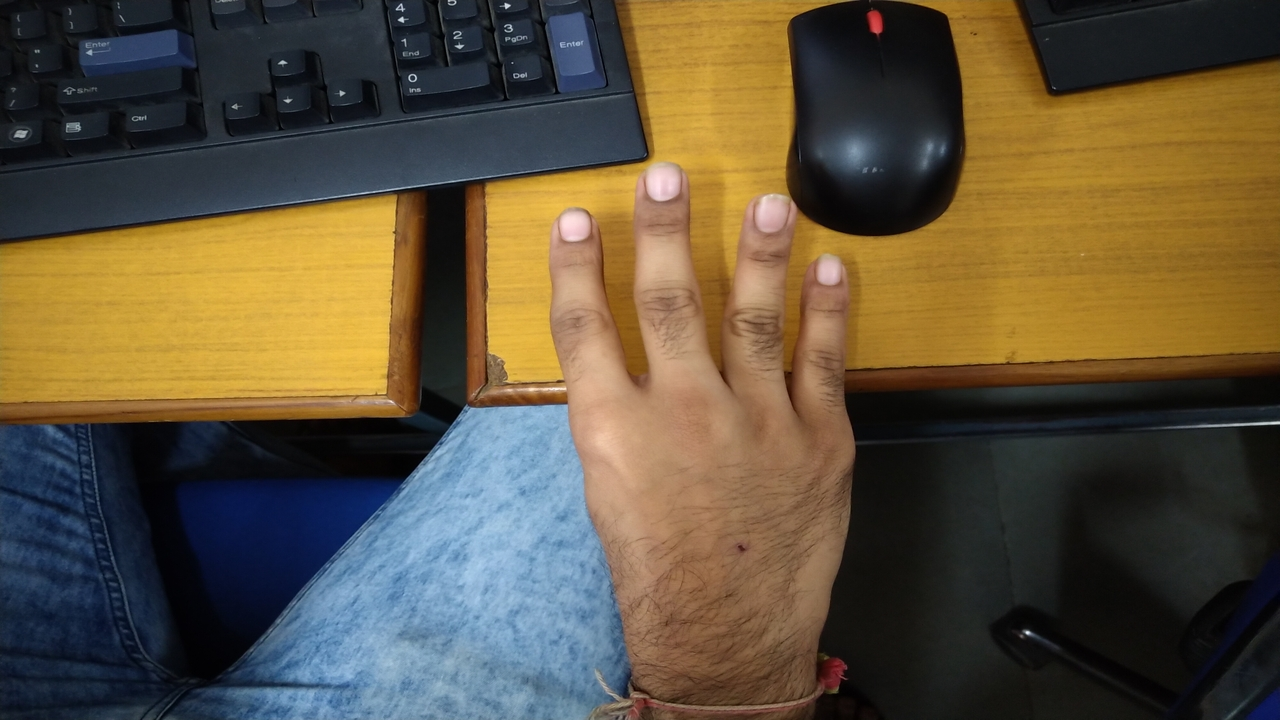fingertip: (736, 180, 800, 244), (632, 152, 698, 212), (542, 198, 602, 260), (802, 238, 858, 304)
